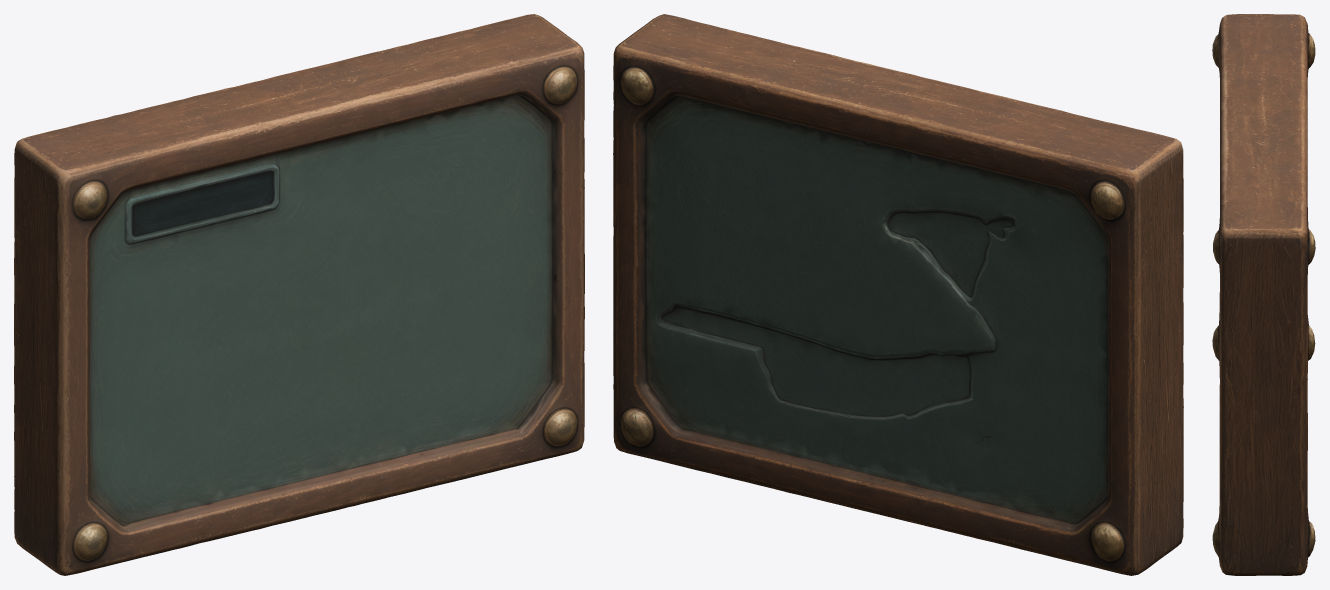
The model's file is Prop_ButtonPanel.fbx.
3 renders of one model, left to right at view 1: azimuth 30°, elevation 25°; view 2: azimuth 150°, elevation 25°; view 3: azimuth 270°, elevation 25°, orthographic. The views are drawn at different scales.
Visible parts, largest first — view 1: texture_mapping; view 2: texture_mapping; view 3: texture_mapping.
Boxes of the visible parts, box(x1,y1,x2,y2) form: texture_mapping: box(14, 14, 584, 575); texture_mapping: box(613, 14, 1183, 575); texture_mapping: box(1212, 14, 1315, 575).
Bounding box in the file's own units: 0.9912 × 0.1965 × 0.7293.
1 material, 1 textured.
